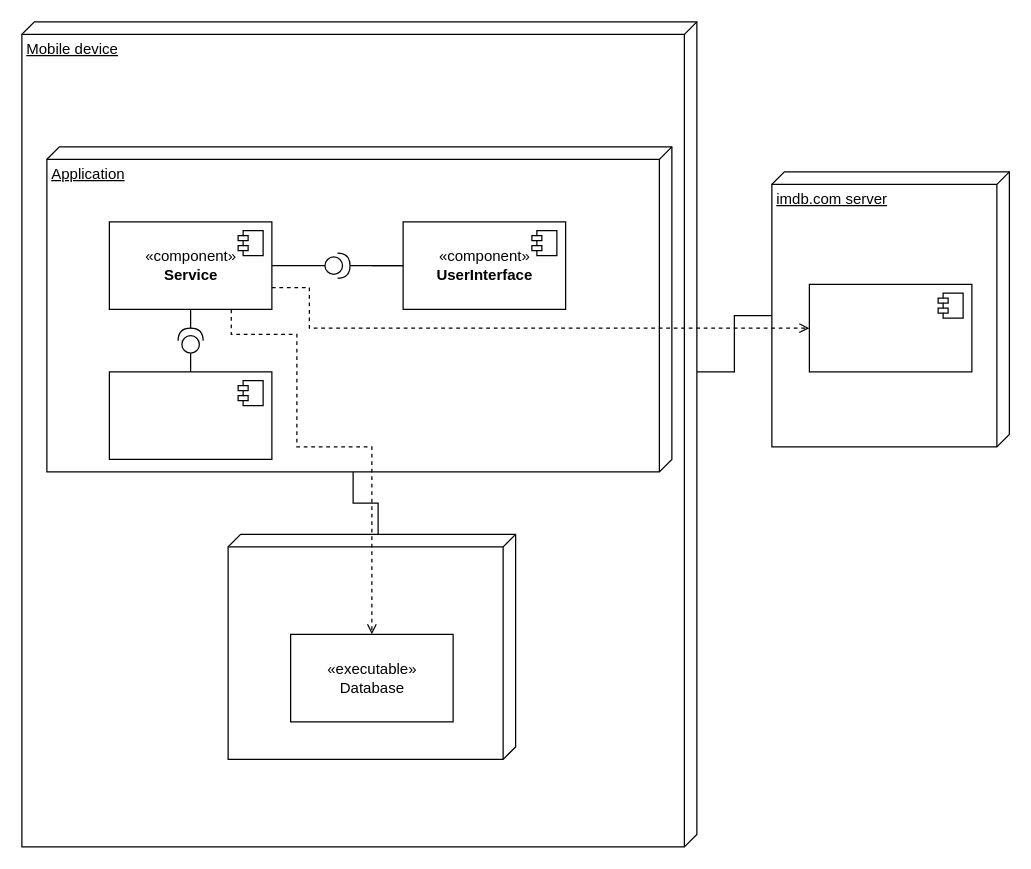
The diagram is 1031 pixels wide and 869 high, and some of its shapes have lost their labels. Here are the shapes that lost their labels. From the top down, the box of each, then its label:
(808, 283, 972, 372): «component» Database
(108, 371, 272, 459): «component» AuxiliaryClasses
(227, 533, 516, 759): DB server
